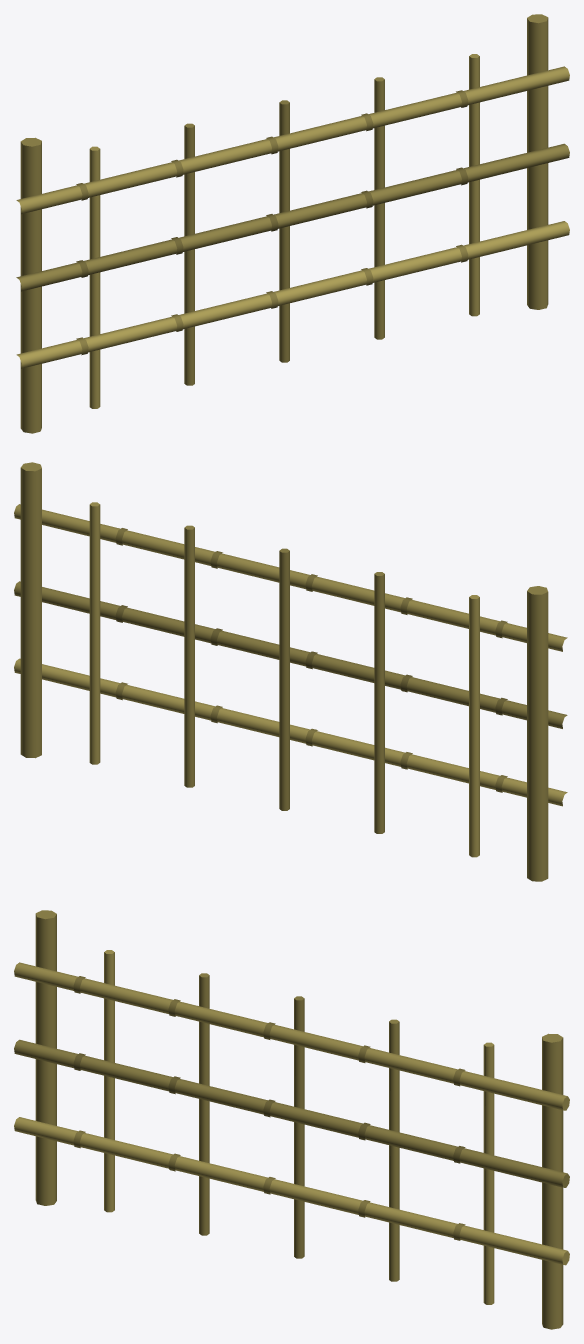
The model's file is fence_bamboo.glb.
3 views of the same model, one above another, from view 1: azimuth 30°, elevation 25°; view 2: azimuth 150°, elevation 25°; view 3: azimuth 330°, elevation 25° (orthographic).
Visible parts, largest first — view 1: fence_bamboo; view 2: fence_bamboo; view 3: fence_bamboo.
Part boxes in pixels (x1,y1,x2,y2): fence_bamboo: [16, 14, 569, 433]; fence_bamboo: [14, 462, 567, 881]; fence_bamboo: [14, 910, 569, 1329].
Size of the model in its own units: 2.6 by 1.3 by 0.1411.
